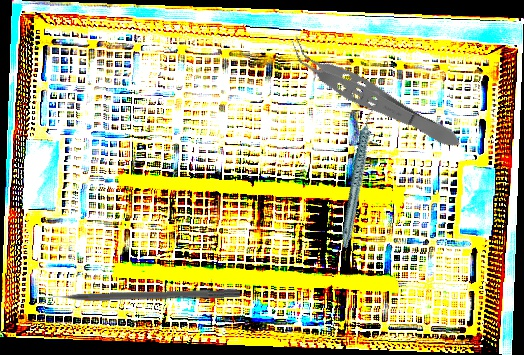Handpiece: (314, 105, 404, 249)
Pusher: (36, 287, 241, 302)
Tissue Forceps: (278, 33, 468, 158)
